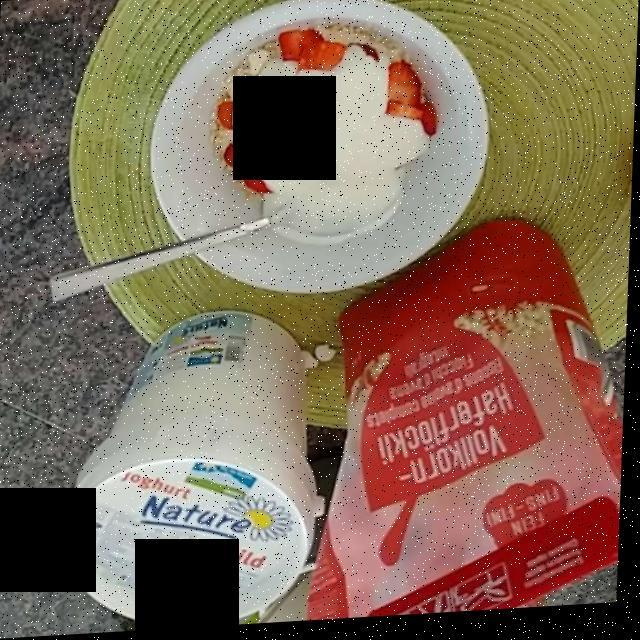strawberries: (224, 34, 439, 207)
yogurt: (228, 59, 426, 232)
